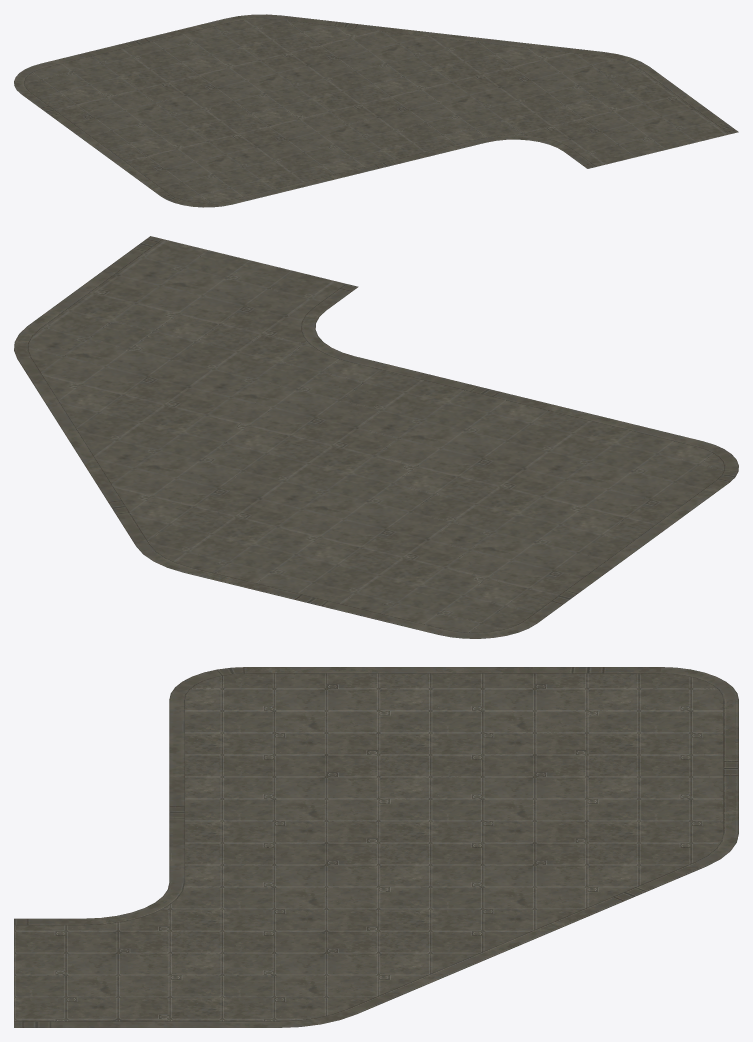
File: lab_linoleum_probe_design_special.dae
3 views of the same model, one above another, from view 1: azimuth 30°, elevation 25°; view 2: azimuth 150°, elevation 25°; view 3: azimuth 270°, elevation 25° (orthographic). The views are drawn at different scales.
Visible parts, largest first — view 1: probe_design_floor_special, trim; view 2: probe_design_floor_special, trim; view 3: probe_design_floor_special, trim.
Part boxes in pixels (<box>): probe_design_floor_special: <box>24,19,729,202</box>; trim: <box>14,14,738,207</box>; probe_design_floor_special: <box>28,239,724,632</box>; trim: <box>14,236,738,638</box>; probe_design_floor_special: <box>14,673,723,1021</box>; trim: <box>14,667,738,1027</box>.
Size of the model in its own units: 8.25 by 0 by 7.
